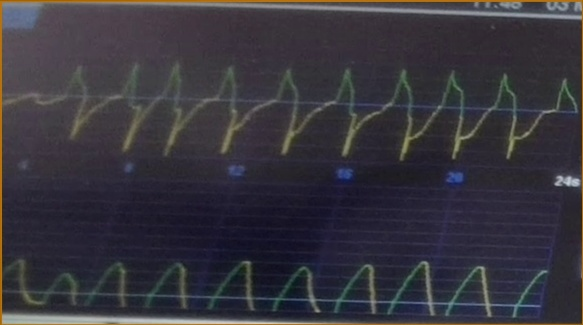Ineffective_effort Flow: (5, 53, 577, 159)
Ineffective_effort Volume: (3, 235, 546, 318)
